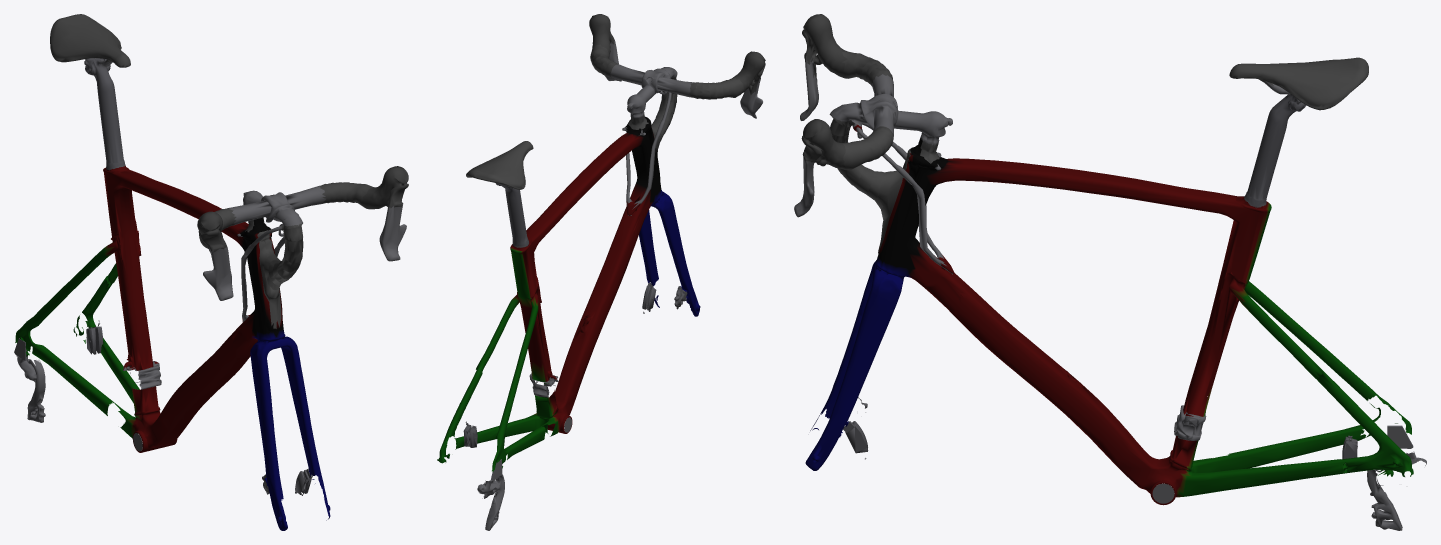
File: roubaix61_lod1.glb
3 renders of one model, left to right at view 1: azimuth 30°, elevation 25°; view 2: azimuth 150°, elevation 25°; view 3: azimuth 270°, elevation 25°, orthographic. The views are drawn at different scales.
Visible parts, largest first — view 1: frame, cockpit, fork, saddle, seatpost; view 2: frame, cockpit, fork, saddle, seatpost; view 3: frame, cockpit, fork, saddle, seatpost.
Boxes of the visible parts, <box> form: frame: <box>14,166,303,452</box>; cockpit: <box>197,166,408,300</box>; fork: <box>232,326,330,530</box>; saddle: <box>50,14,130,128</box>; seatpost: <box>102,125,125,170</box>; frame: <box>437,74,677,530</box>; cockpit: <box>589,14,765,118</box>; fork: <box>619,188,700,316</box>; saddle: <box>466,141,533,217</box>; seatpost: <box>509,214,528,247</box>; frame: <box>829,114,1426,530</box>; cockpit: <box>794,14,952,217</box>; fork: <box>805,255,964,470</box>; saddle: <box>1229,57,1368,160</box>; seatpost: <box>1244,156,1278,207</box>.
Size of the model in its own units: 0.4948 by 0.9322 by 1.12.
